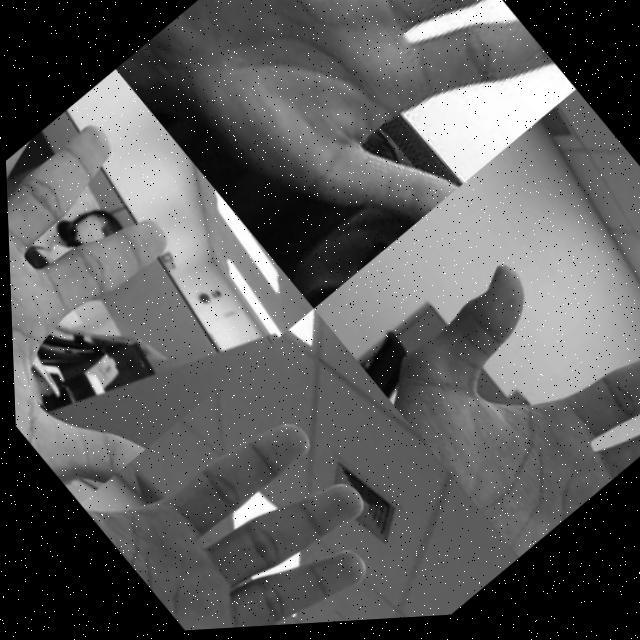no-gloves: (139, 0, 581, 300), (3, 93, 277, 507), (70, 353, 452, 637), (359, 198, 640, 570)
